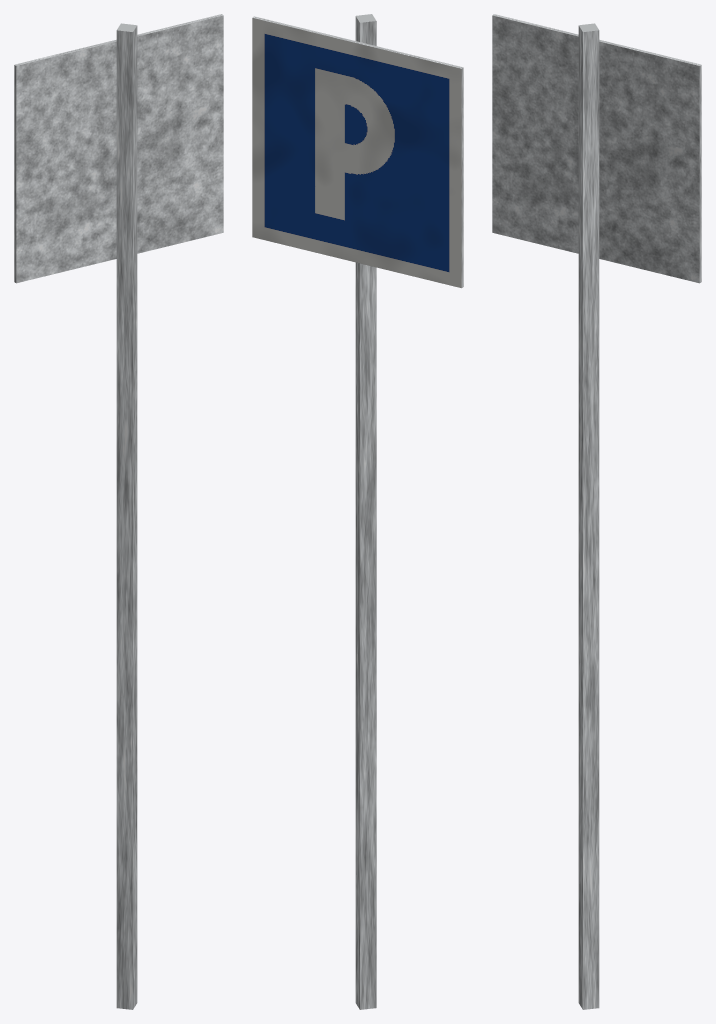
Rendered from SM_Morin_CartelloP_LOD2.fbx.
3 renders of one model, left to right at view 1: azimuth 30°, elevation 25°; view 2: azimuth 150°, elevation 25°; view 3: azimuth 330°, elevation 25°, orthographic.
Visible parts, largest first — view 1: SM_Morin_CartelloP_LOD2; view 2: SM_Morin_CartelloP_LOD2; view 3: SM_Morin_CartelloP_LOD2.
Boxes of the visible parts, x1=… form: SM_Morin_CartelloP_LOD2: x1=14, y1=14, x2=223, y2=1009; SM_Morin_CartelloP_LOD2: x1=252, y1=14, x2=463, y2=1009; SM_Morin_CartelloP_LOD2: x1=492, y1=14, x2=701, y2=1009.
Size of the model in its own units: 60 by 7.5 by 270.
Materials: 1 (1 with a texture image).
